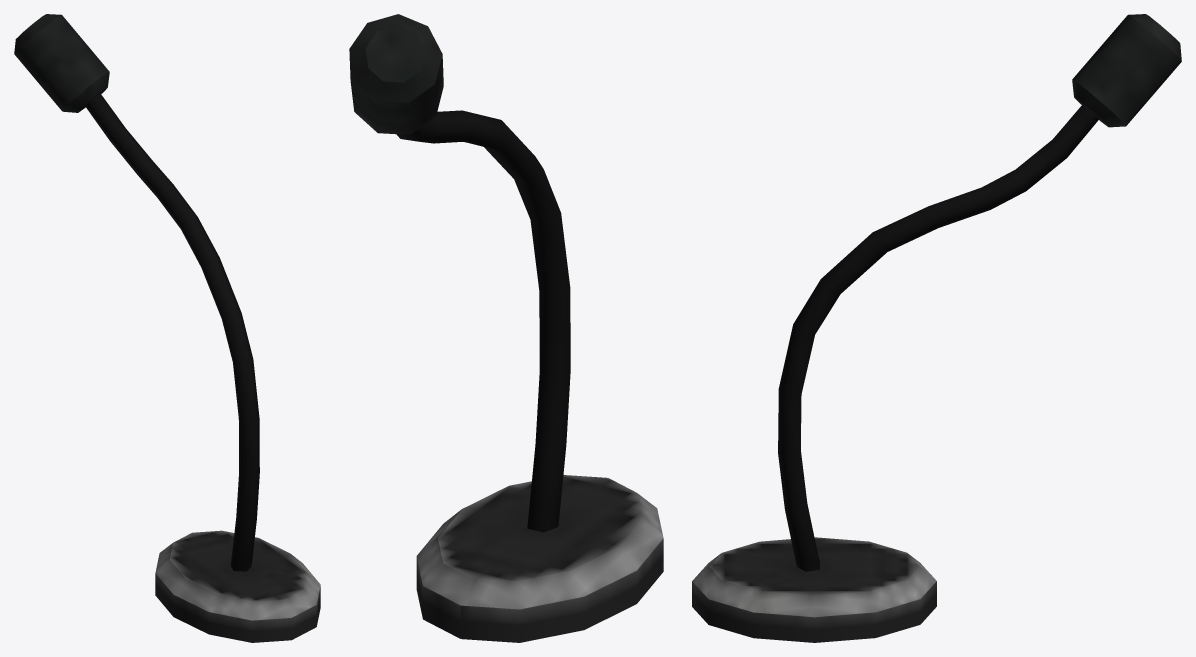
File: Mic.FBX
The picture shows the model from 3 angles, left to right: view 1: azimuth 30°, elevation 25°; view 2: azimuth 150°, elevation 25°; view 3: azimuth 270°, elevation 25°; orthographic projection. The views are drawn at different scales.
Parts seen in each view (by area): view 1: Mic; view 2: Mic; view 3: Mic.
Boxes of the visible parts, left/top/right/bottom form: Mic: left=14, top=14, right=320, bottom=642; Mic: left=349, top=14, right=663, bottom=642; Mic: left=692, top=14, right=1181, bottom=642.
Bounding box in the file's own units: 11.65 × 38.68 × 30.44.
